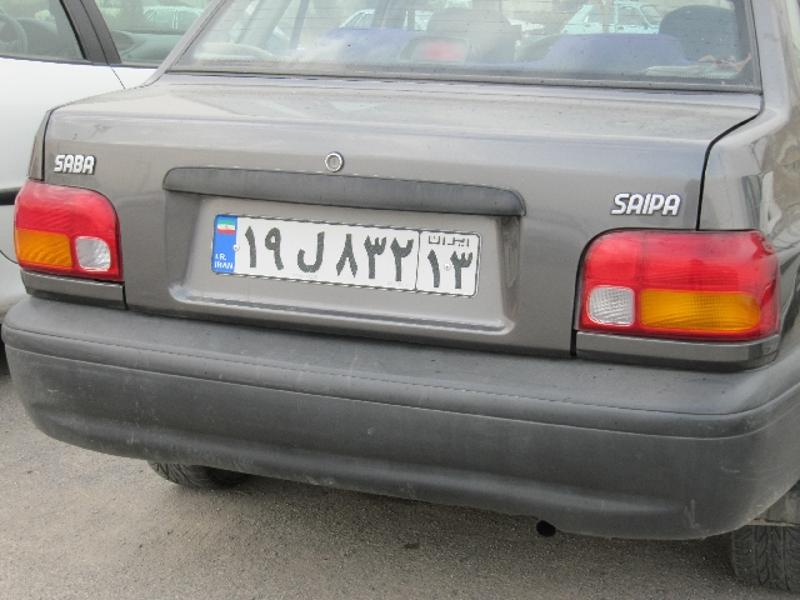Plate: (216, 212, 478, 301)
